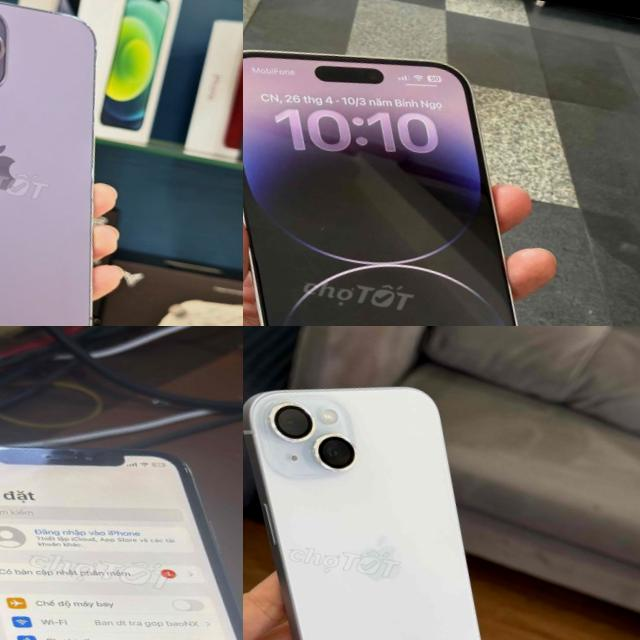gen_14: (243, 22, 601, 326), (0, 0, 151, 326)
gen_15: (243, 360, 552, 640)
gen_x_xs: (0, 407, 243, 640)
